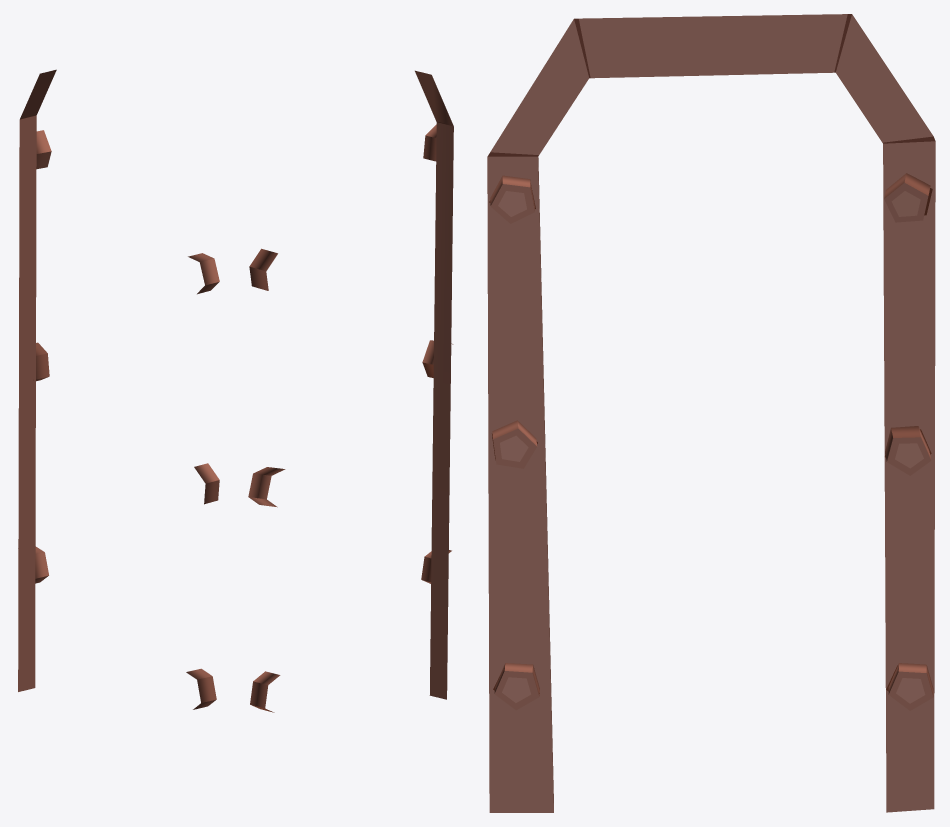
The model's file is BeamWallBack.glb.
3 renders of one model, left to right at view 1: azimuth 30°, elevation 25°; view 2: azimuth 150°, elevation 25°; view 3: azimuth 270°, elevation 25°, orthographic. The views are drawn at different scales.
Parts seen in each view (by area): view 1: BeamWallBack; view 2: BeamWallBack; view 3: BeamWallBack.
Part boxes in pixels (x1,y1,x2,y2): BeamWallBack: (18,69,219,709); BeamWallBack: (248,70,453,712); BeamWallBack: (487,14,935,812).
Size of the model in its own units: 0.1299 by 2.42 by 1.23.
